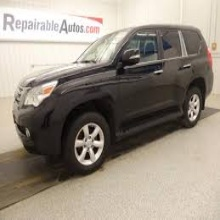no damage: (11, 23, 213, 172)
